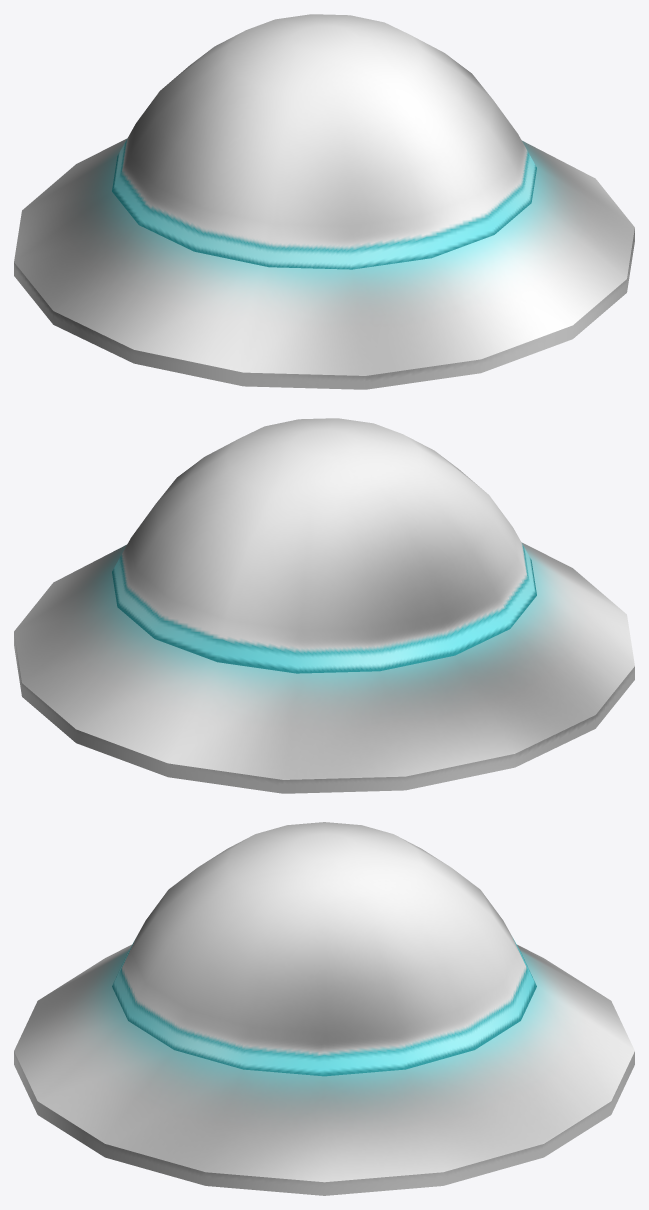
The model's file is ENV2010050.fbx.
The picture shows the model from 3 angles, top to bottom: view 1: azimuth 30°, elevation 25°; view 2: azimuth 150°, elevation 25°; view 3: azimuth 270°, elevation 25°; orthographic projection.
Parts seen in each view (by area): view 1: smENV2010050; view 2: smENV2010050; view 3: smENV2010050.
Boxes of the visible parts, box(x1,y1,x2,y2) form: smENV2010050: box(14, 14, 634, 389); smENV2010050: box(14, 418, 634, 793); smENV2010050: box(14, 822, 634, 1195).
Size of the model in its own units: 33.25 by 17.67 by 33.25.
Materials: 1 (1 with a texture image).
